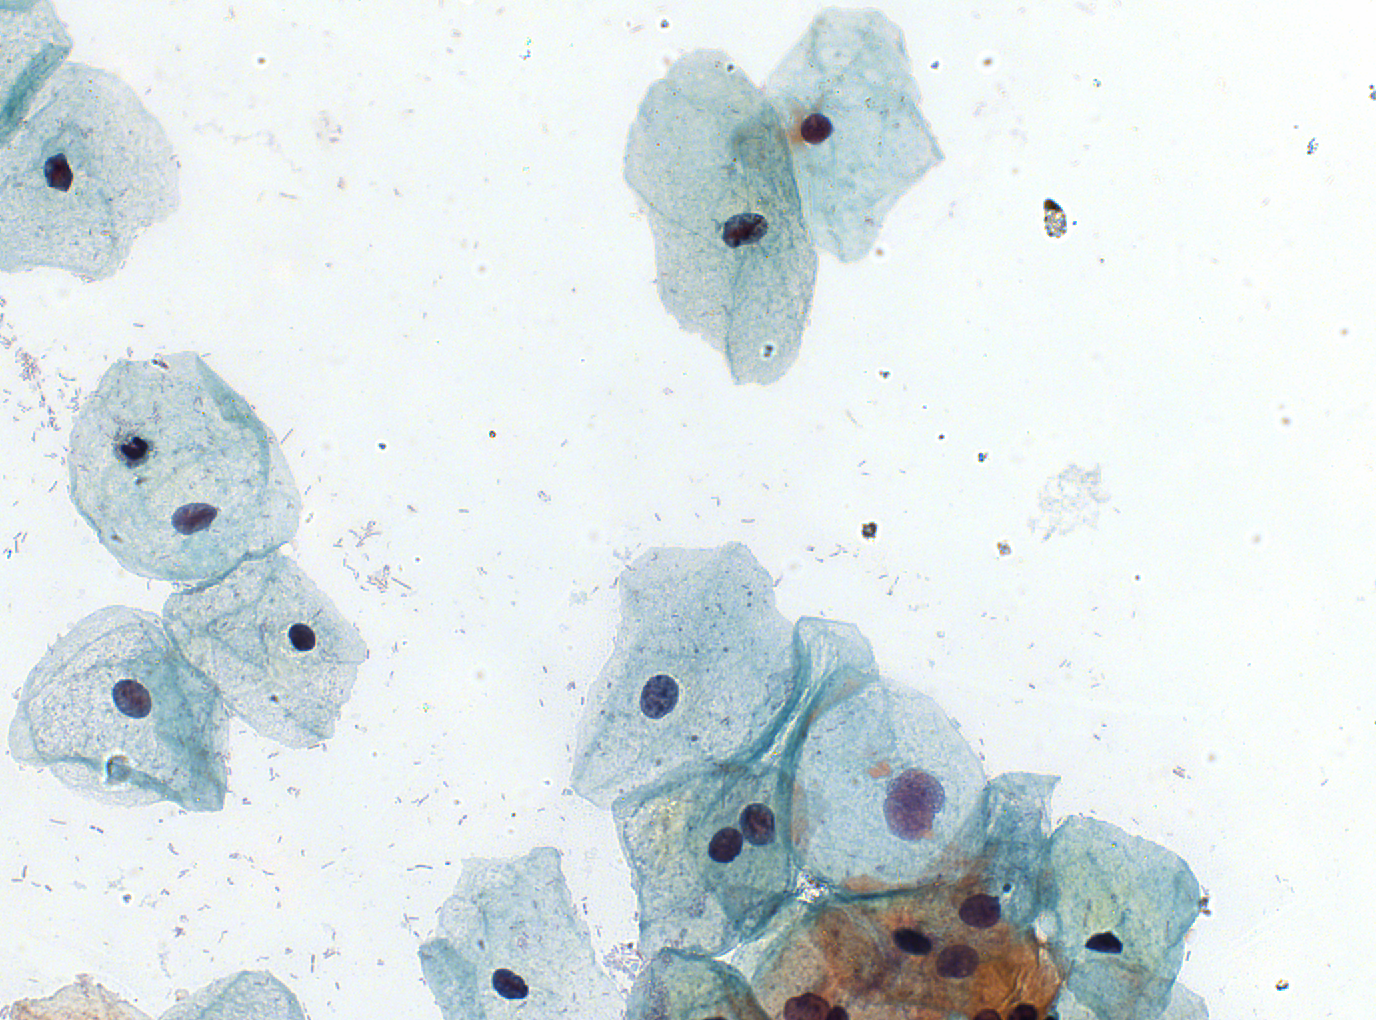Abnormal_Nucleus: (881, 770, 944, 843)
Normal_Nucleus: (639, 673, 680, 720), (741, 799, 778, 847), (109, 678, 152, 719), (40, 149, 76, 196), (169, 501, 218, 537), (720, 213, 769, 247), (956, 892, 1002, 929), (779, 990, 831, 1020), (489, 965, 530, 1001), (887, 926, 934, 957), (706, 826, 742, 866), (1080, 927, 1124, 957), (799, 111, 834, 145), (285, 621, 317, 654)
